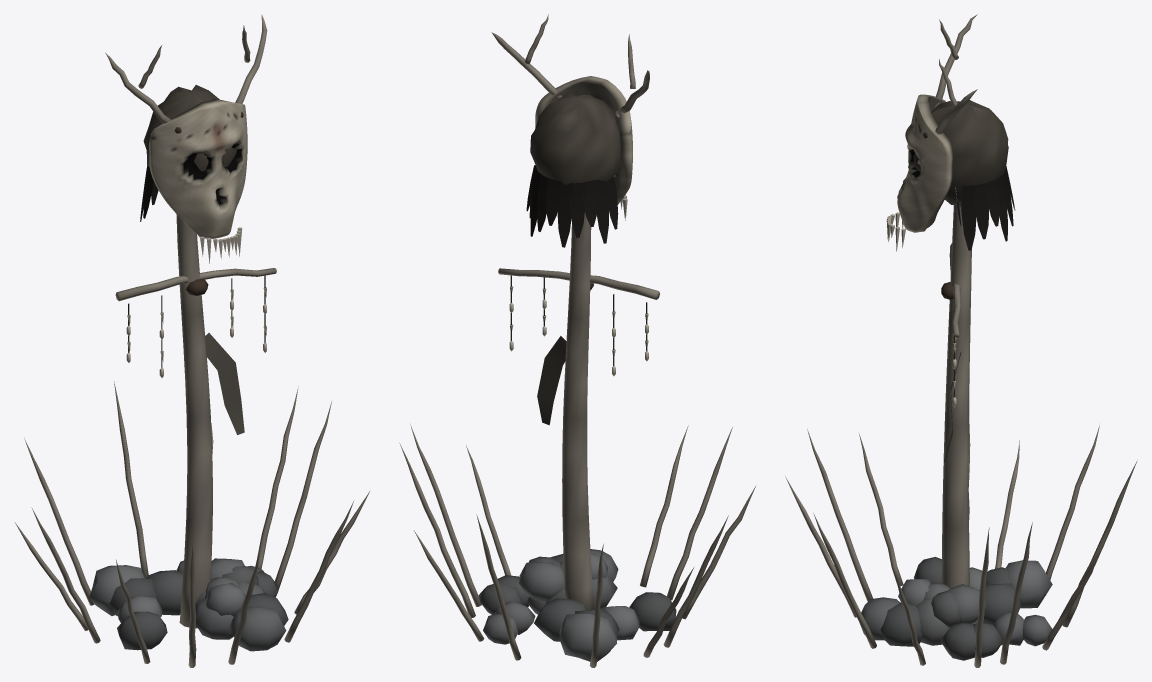
Rendered from totem.glb.
3 renders of one model, left to right at view 1: azimuth 30°, elevation 25°; view 2: azimuth 150°, elevation 25°; view 3: azimuth 270°, elevation 25°, orthographic.
Parts seen in each view (by area): view 1: totem; view 2: totem; view 3: totem.
Boxes of the visible parts, x1=… form: totem: x1=15, y1=14, x2=369, y2=667; totem: x1=399, y1=14, x2=755, y2=667; totem: x1=785, y1=14, x2=1137, y2=667.
Size of the model in its own units: 1.69 by 3.11 by 1.69.
